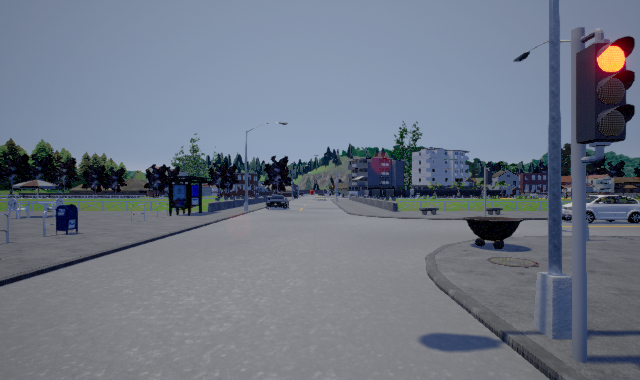traffic_light: (576, 36, 635, 144)
vehicle: (560, 194, 640, 223), (266, 195, 289, 209)
